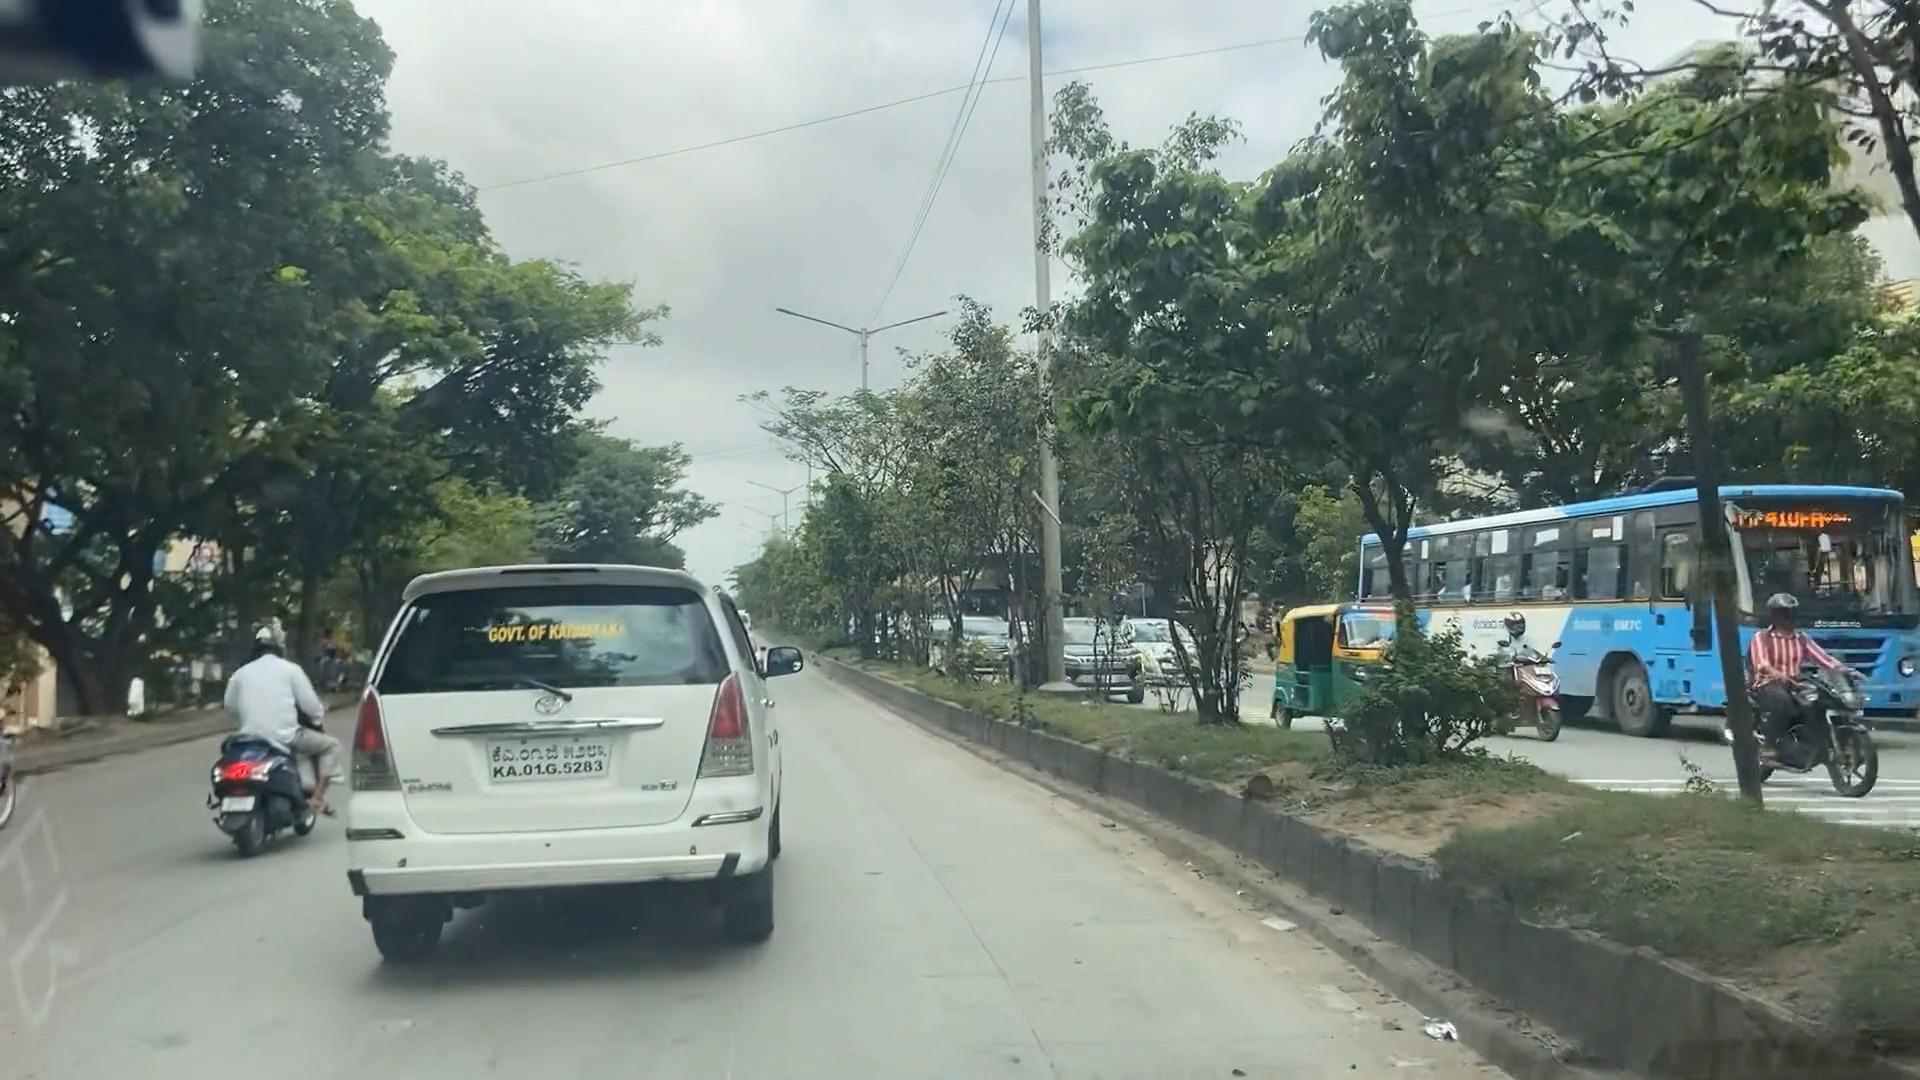LMV: (327, 549, 835, 969)
